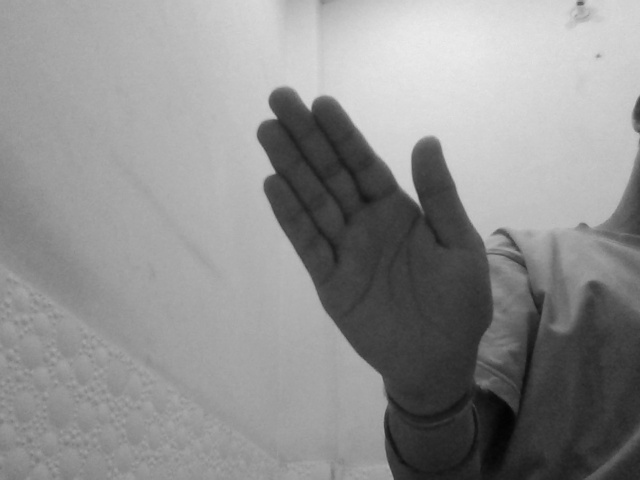Hello: (251, 84, 494, 398)
